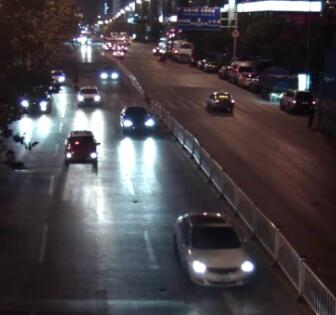bus: (167, 37, 192, 63), (159, 35, 173, 57)
car: (172, 212, 255, 293), (62, 129, 100, 168), (119, 105, 155, 137), (277, 88, 318, 116), (258, 65, 296, 95), (18, 88, 52, 115), (205, 88, 236, 114), (225, 60, 254, 85), (75, 84, 101, 106), (47, 67, 65, 86), (237, 70, 256, 88), (99, 66, 119, 83), (197, 58, 218, 74), (217, 64, 229, 82), (151, 44, 167, 57), (111, 45, 124, 58)
